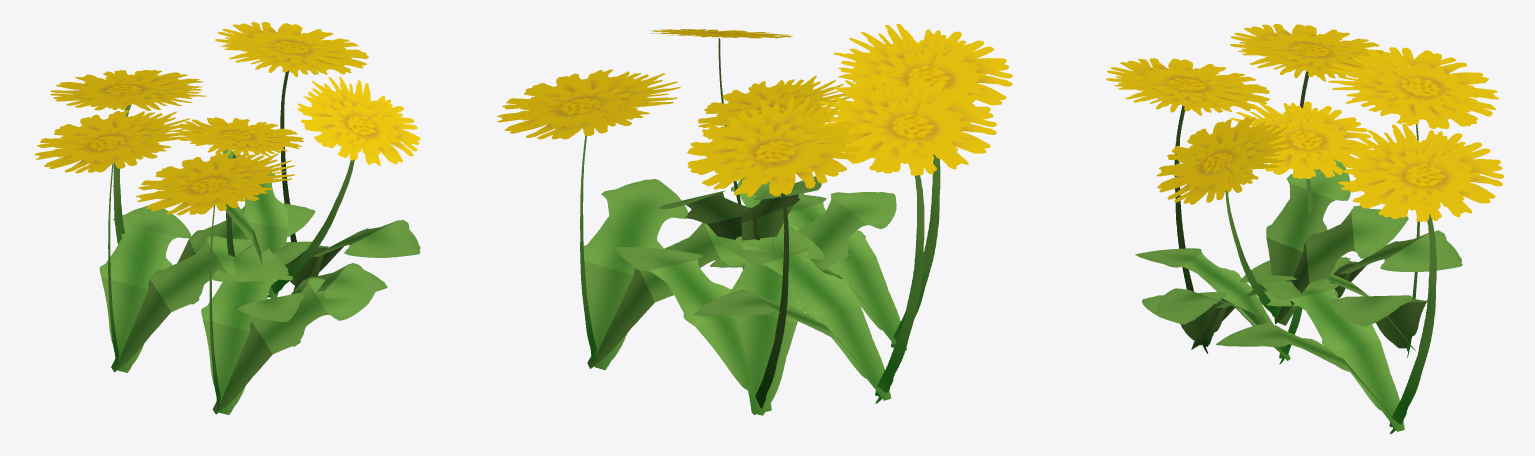
File: FRM0210018.fbx
3 renders of one model, left to right at view 1: azimuth 30°, elevation 25°; view 2: azimuth 150°, elevation 25°; view 3: azimuth 270°, elevation 25°, orthographic. The views are drawn at different scales.
Parts seen in each view (by area): view 1: smFRM0210018; view 2: smFRM0210018; view 3: smFRM0210018.
Boxes of the visible parts, bbox=[...] form: smFRM0210018: bbox=[34, 22, 420, 414]; smFRM0210018: bbox=[497, 23, 1012, 415]; smFRM0210018: bbox=[1106, 24, 1504, 434].
Size of the model in its own units: 58.85 by 40 by 53.95.
1 material, 1 textured.
